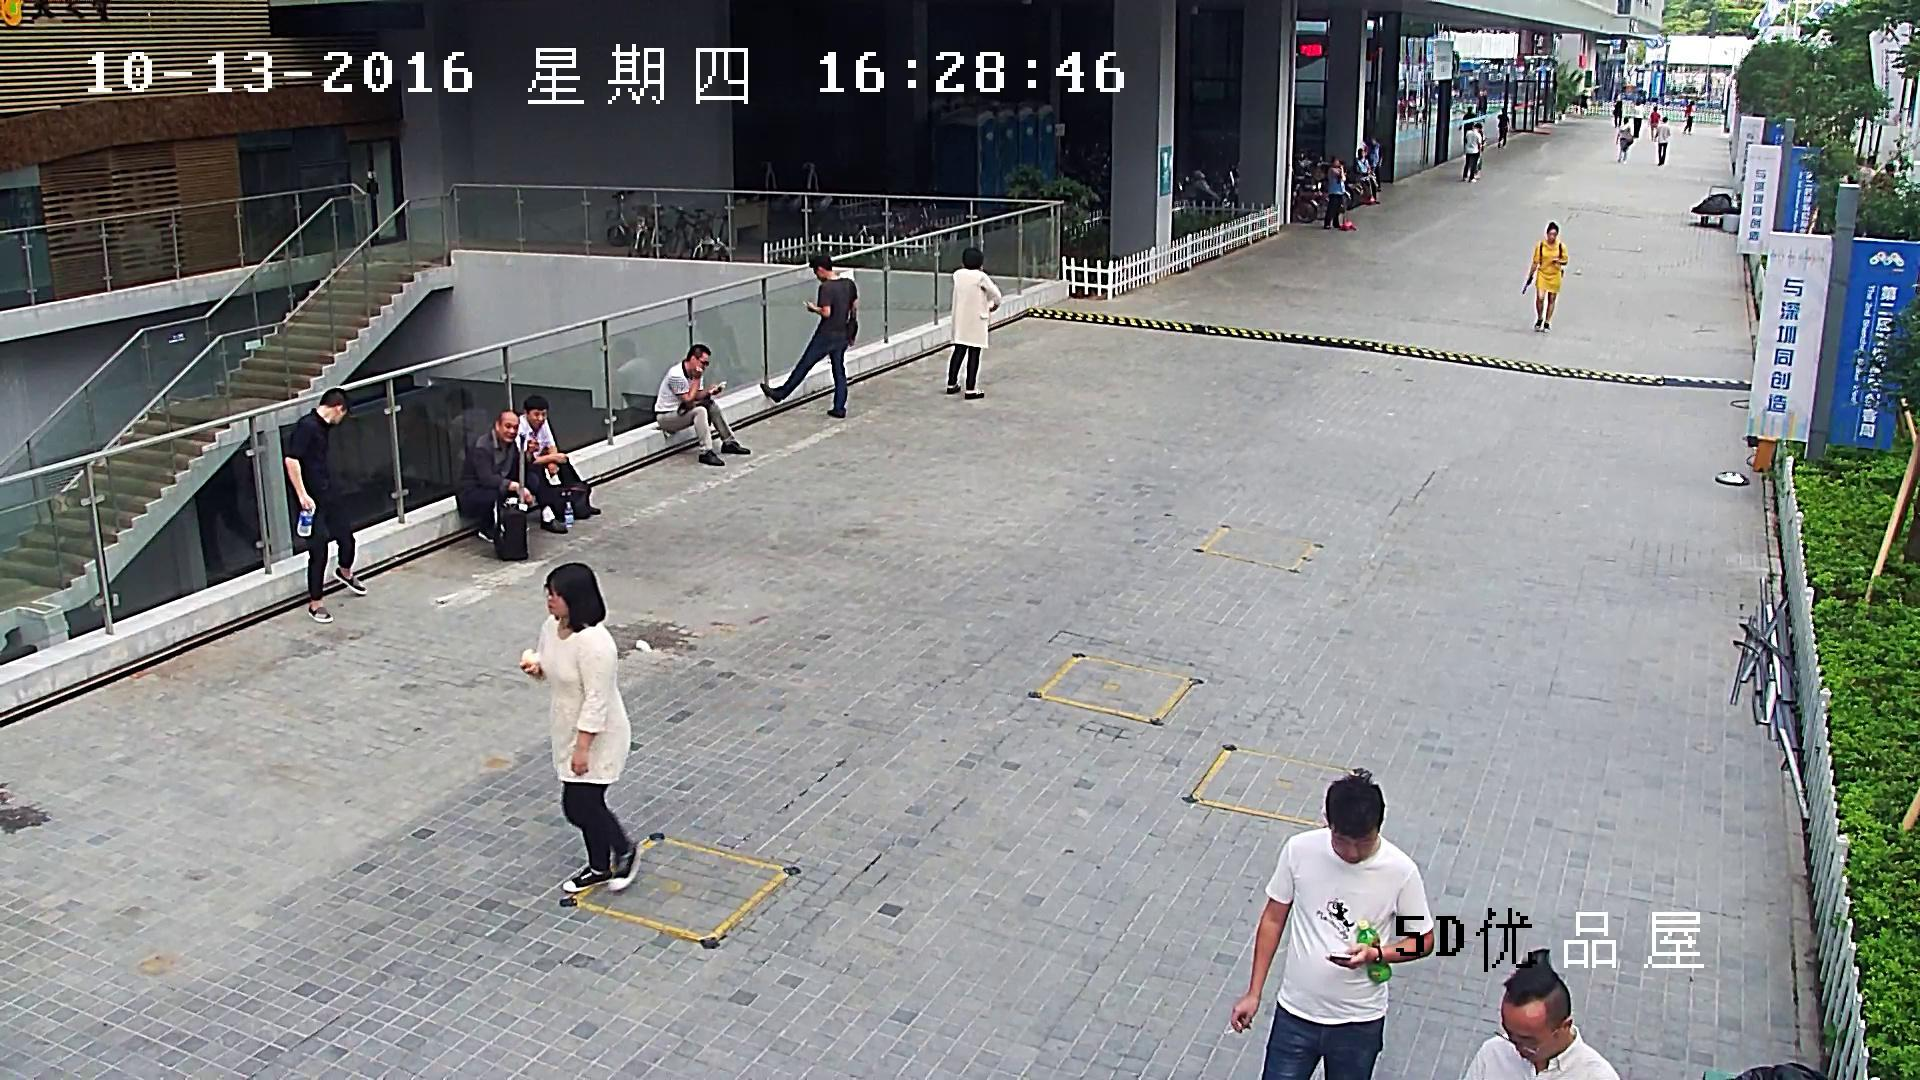person: (1230, 766, 1435, 1080), (518, 562, 640, 893), (1461, 947, 1620, 1080), (283, 387, 367, 623), (759, 254, 857, 418), (513, 395, 601, 534), (654, 343, 751, 466), (455, 409, 532, 561), (946, 246, 1000, 399), (1522, 221, 1569, 331), (609, 335, 654, 433), (444, 387, 491, 470), (1323, 157, 1353, 230), (1355, 148, 1379, 205), (1462, 123, 1481, 181), (1615, 116, 1633, 163), (1655, 116, 1669, 166), (1460, 106, 1477, 144), (1369, 137, 1381, 191), (1497, 107, 1509, 148), (1650, 106, 1660, 140), (1683, 101, 1694, 131), (1632, 101, 1642, 138), (1614, 100, 1622, 128)
